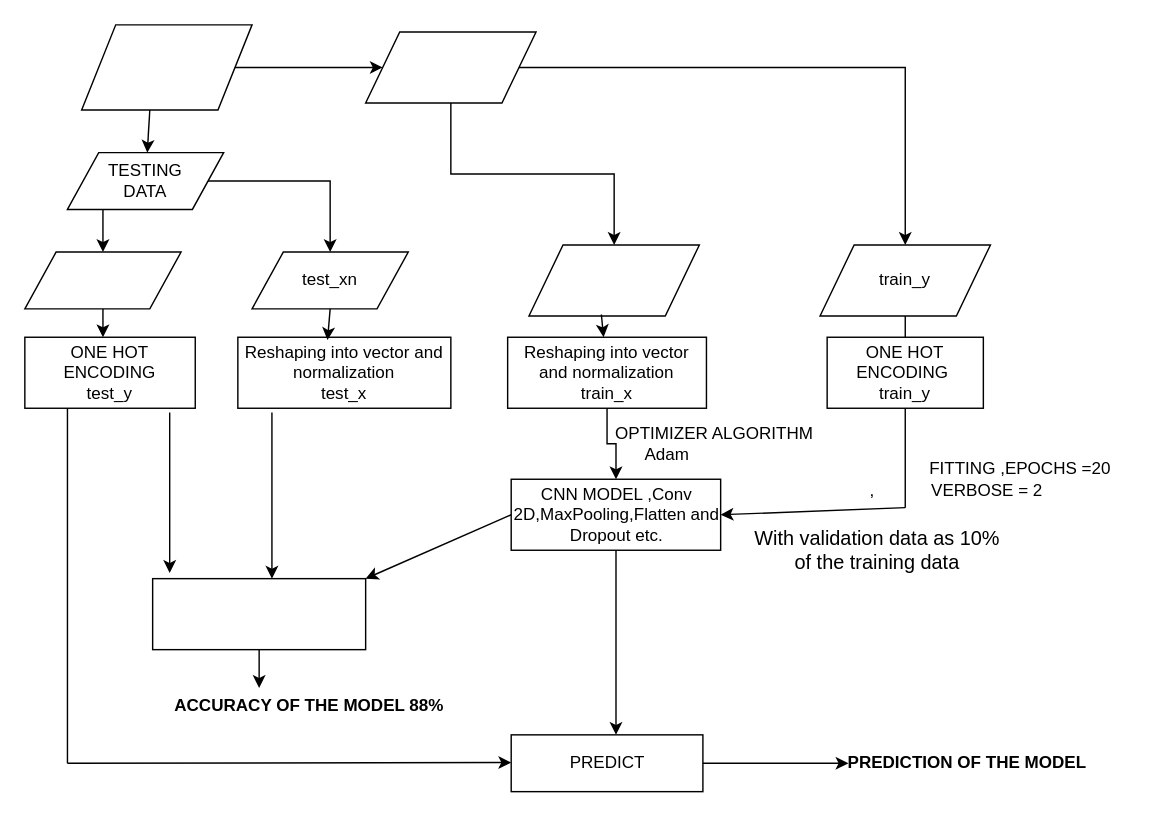
Some shapes in this 1149 by 817 pixel diagram are drawn without their labels. Each missing label, with the centre of its shape:
"DATA (EMNIST) 47 classes" goes at point (166, 66).
"EVALUATION OF MODEL" goes at point (258, 613).
"test_y" goes at point (102, 280).
"train_xn" goes at point (613, 280).
"TRAINING DATA" goes at point (450, 67).
